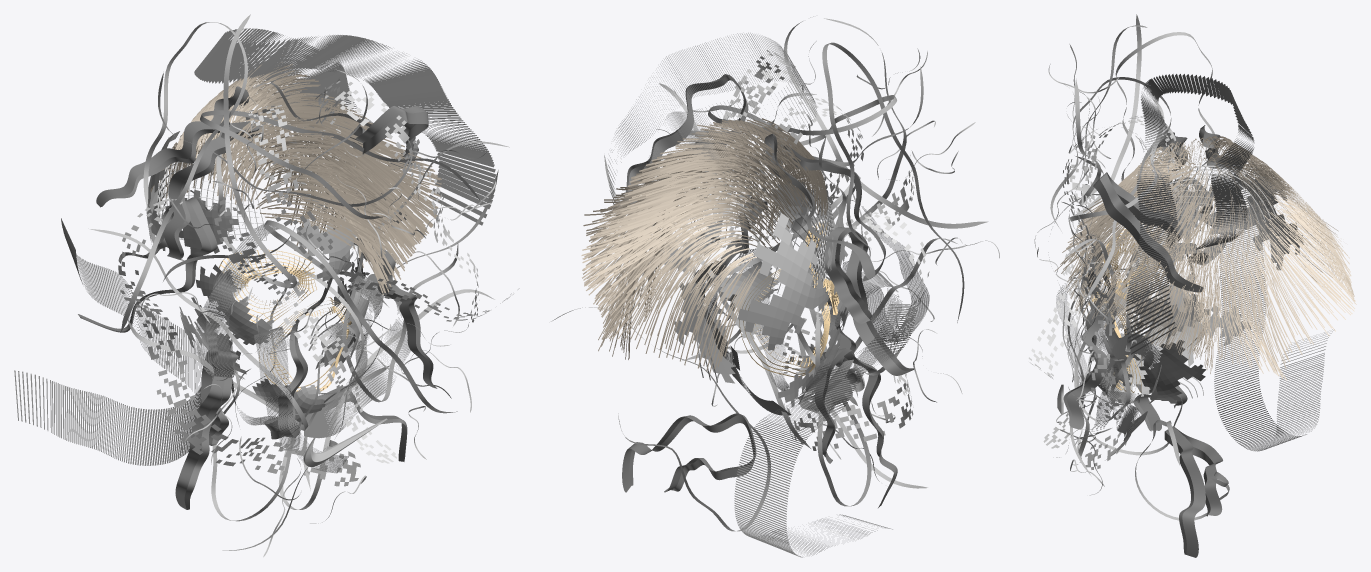
3 views of the same model, side by side, from view 1: azimuth 30°, elevation 25°; view 2: azimuth 150°, elevation 25°; view 3: azimuth 270°, elevation 25° (orthographic). The views are drawn at different scales.
Parts seen in each view (by area): view 1: polySurface3515, polySurface3514, polySurface3273, polySurface2915, polySurface2499, polySurface3225, polySurface3308, polySurface3466, polySurface2431, polySurface3227, polySurface3472, polySurface3226 (+30 smaller); view 2: polySurface3514, polySurface3515, polySurface1065, polySurface3228, polySurface3224, polySurface2499, polySurface3273, polySurface3225, polySurface3472, polySurface1058, polySurface3229, polySurface1062 (+26 smaller); view 3: polySurface3515, polySurface3514, polySurface3224, polySurface3229, polySurface1065, polySurface2915, polySurface1058, polySurface3466, polySurface1064, polySurface3390, polySurface3230, polySurface3475 (+27 smaller).
Part boxes in pixels (<box>): polySurface3515: <box>194,28,496,225</box>; polySurface3514: <box>14,218,203,465</box>; polySurface3273: <box>118,198,360,486</box>; polySurface2915: <box>304,274,410,438</box>; polySurface2499: <box>195,223,279,377</box>; polySurface3225: <box>175,349,238,509</box>; polySurface3308: <box>214,200,396,463</box>; polySurface3466: <box>245,103,519,321</box>; polySurface2431: <box>254,326,300,450</box>; polySurface3227: <box>96,86,249,207</box>; polySurface3472: <box>120,22,247,332</box>; polySurface3226: <box>163,121,259,260</box>; polySurface3514: <box>734,304,917,557</box>; polySurface3515: <box>607,33,816,215</box>; polySurface1065: <box>738,213,829,350</box>; polySurface3228: <box>824,227,914,375</box>; polySurface3224: <box>622,413,756,492</box>; polySurface2499: <box>828,196,929,341</box>; polySurface3273: <box>784,212,929,450</box>; polySurface3225: <box>814,348,897,507</box>; polySurface3472: <box>822,42,964,322</box>; polySurface1058: <box>674,282,735,383</box>; polySurface3229: <box>624,74,748,204</box>; polySurface1062: <box>719,259,777,340</box>; polySurface3515: <box>1126,74,1254,354</box>; polySurface3514: <box>1214,166,1333,451</box>; polySurface3224: <box>1164,426,1222,557</box>; polySurface3229: <box>1093,172,1203,292</box>; polySurface1065: <box>1210,162,1303,270</box>; polySurface2915: <box>1106,333,1162,440</box>; polySurface1058: <box>1139,340,1205,403</box>; polySurface3466: <box>1028,116,1182,379</box>; polySurface1064: <box>1142,274,1250,366</box>; polySurface3390: <box>1062,126,1171,419</box>; polySurface3230: <box>1063,267,1113,429</box>; polySurface3475: <box>1069,14,1164,221</box>.
Size of the model in its own units: 0.348 by 0.4188 by 0.2674.
